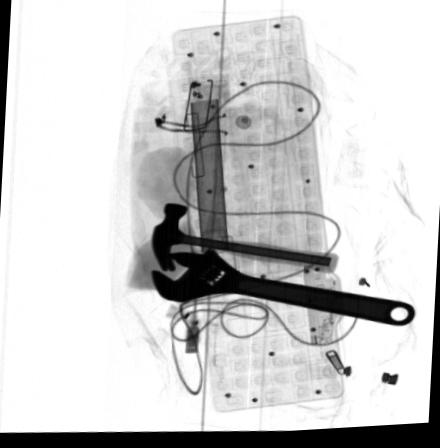Hammer: (150, 203, 339, 277)
Wrench: (150, 250, 416, 331)
